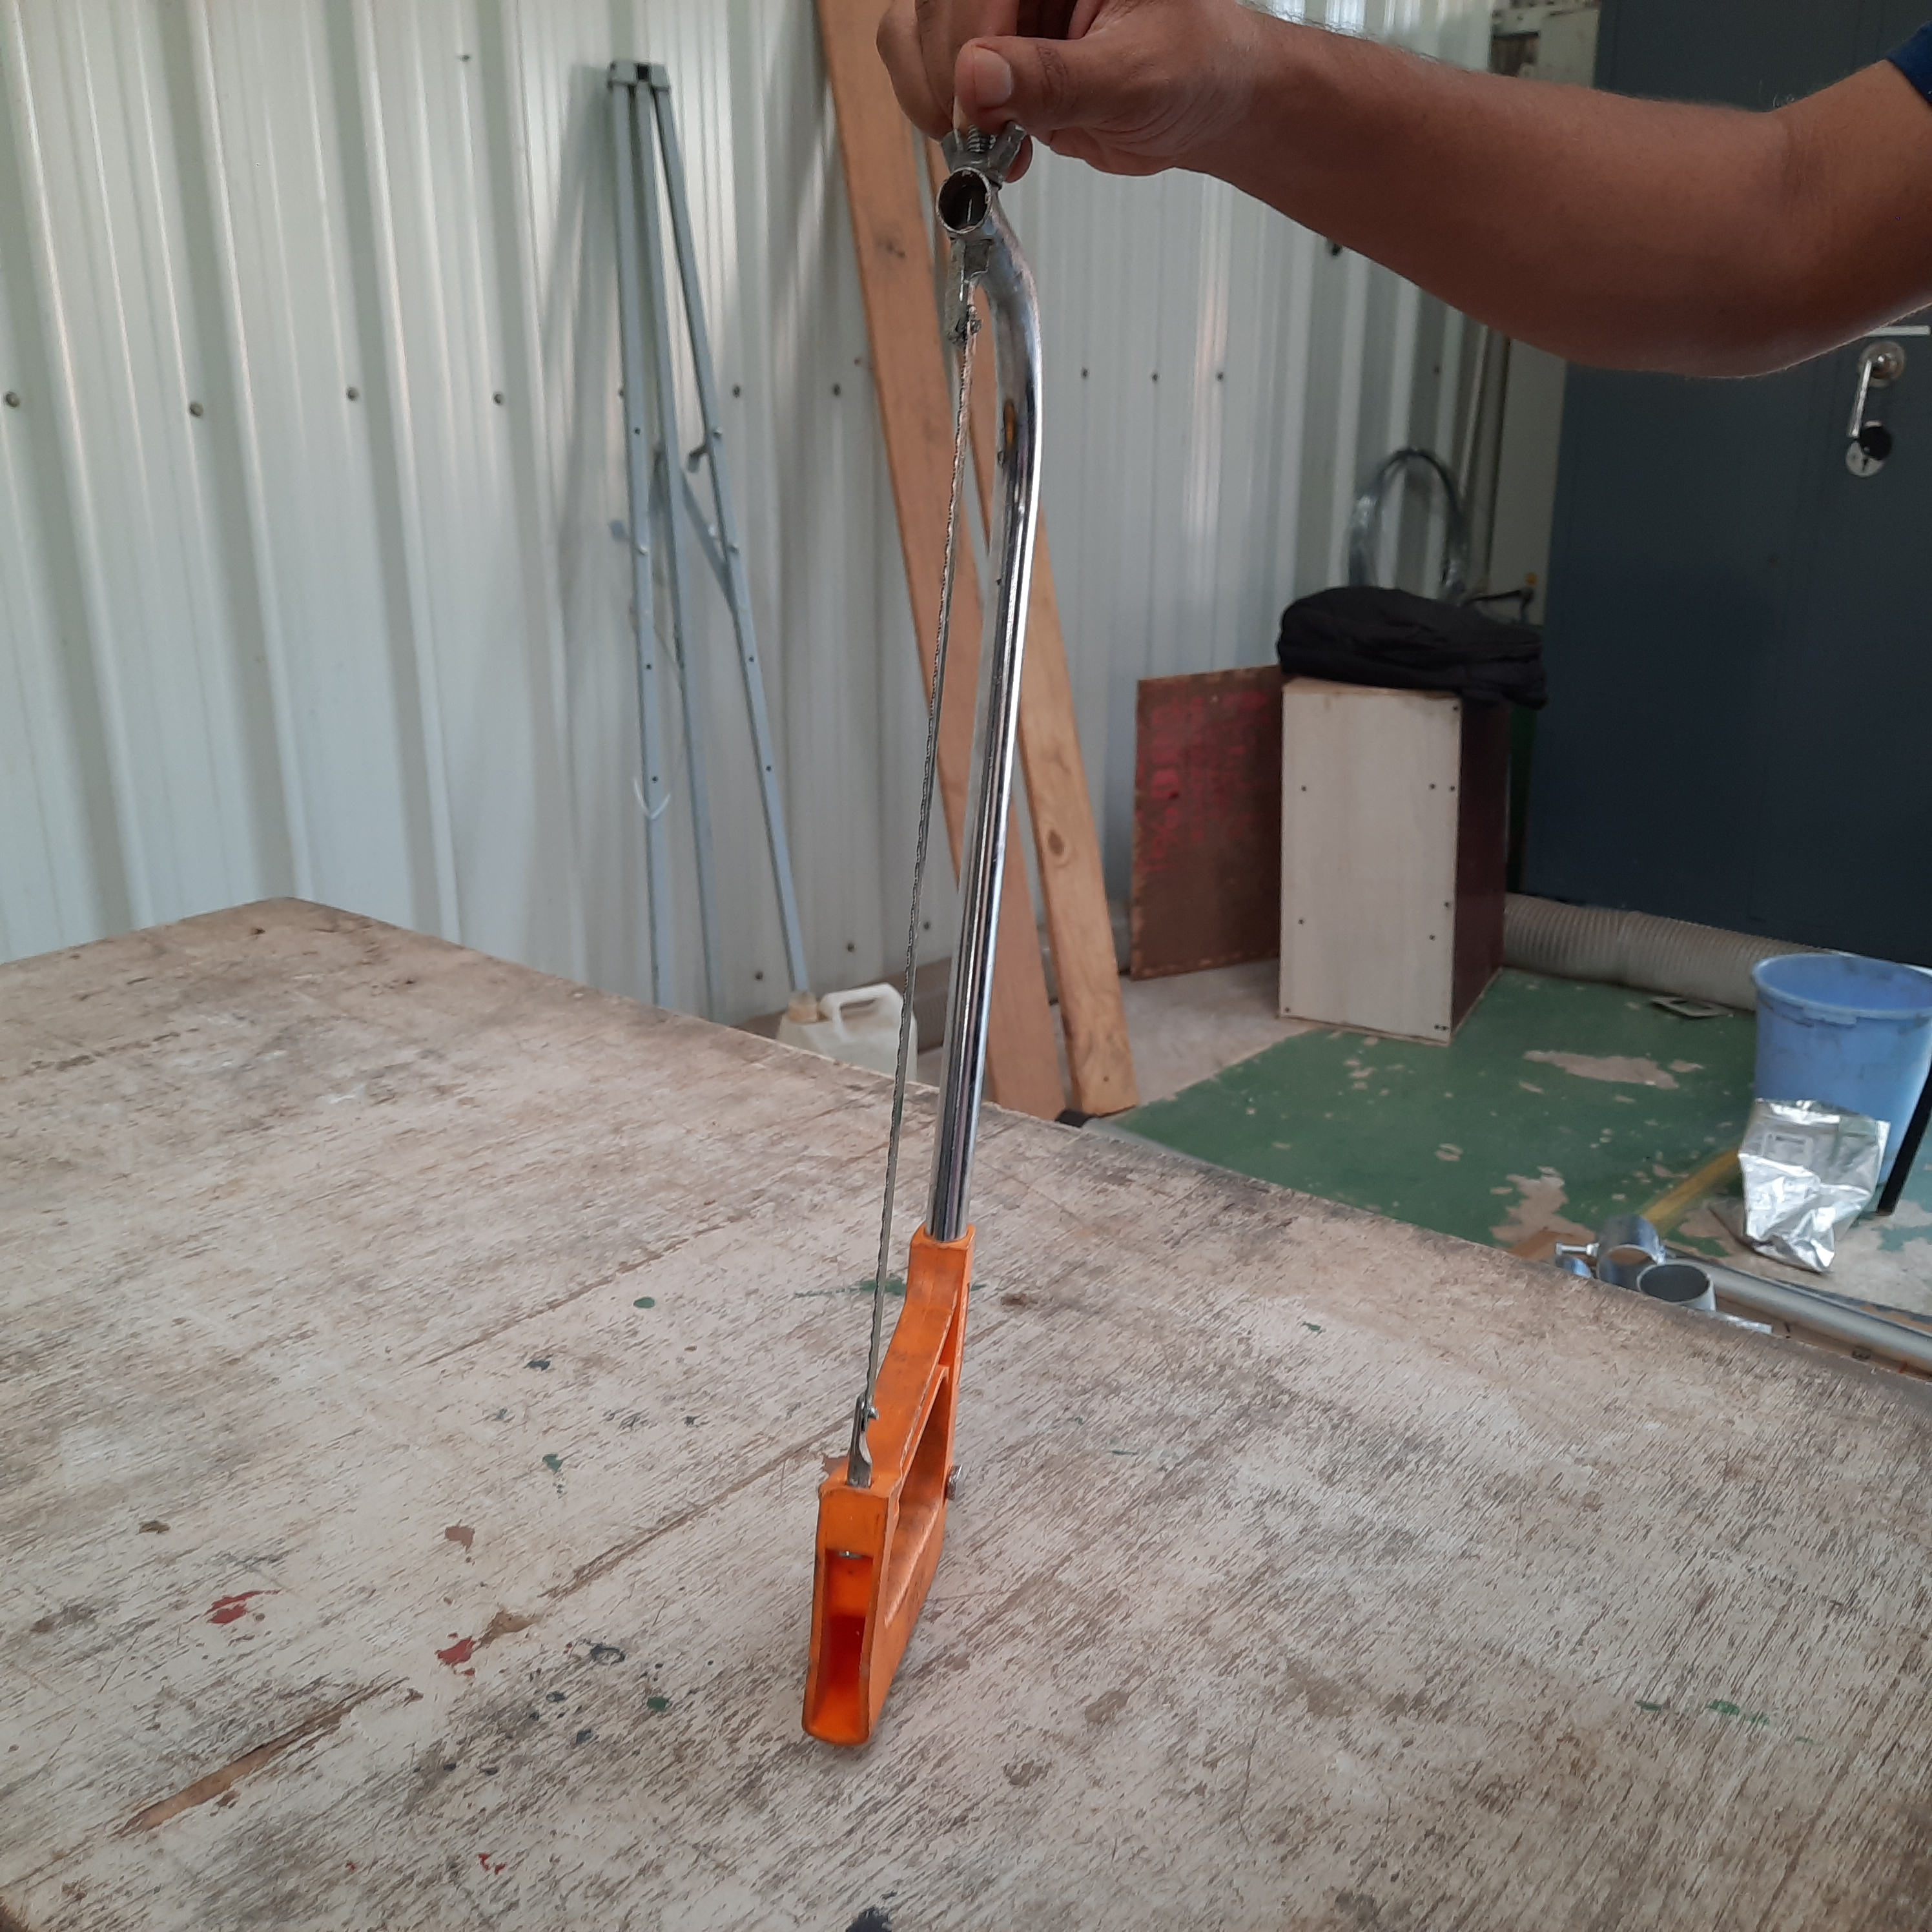Hexaframe: (796, 88, 1086, 1760)
